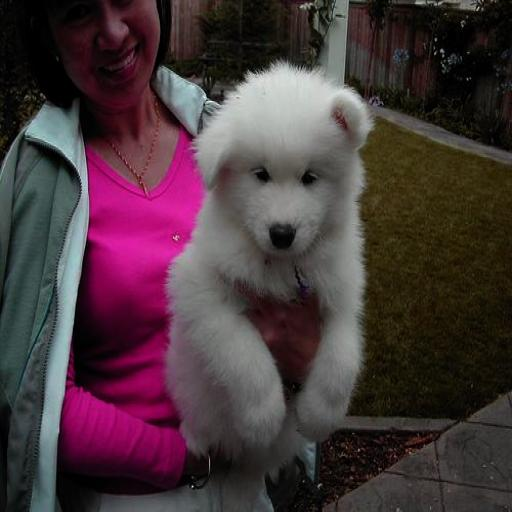dog_face: (205, 79, 364, 256)
